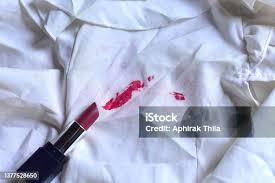kimchi: (100, 83, 135, 106), (124, 78, 156, 95), (167, 89, 188, 105), (146, 72, 154, 81)
